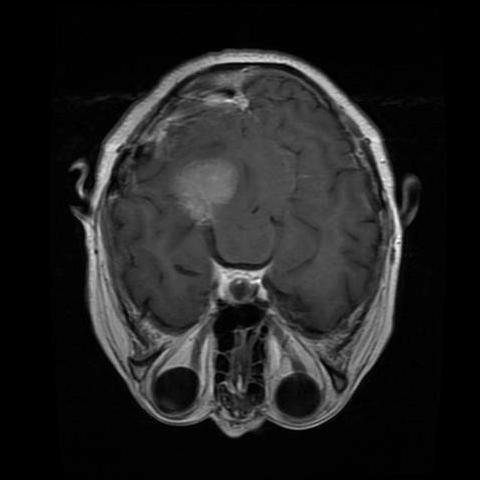Tumour-Pituitary: (158, 140, 255, 230)
